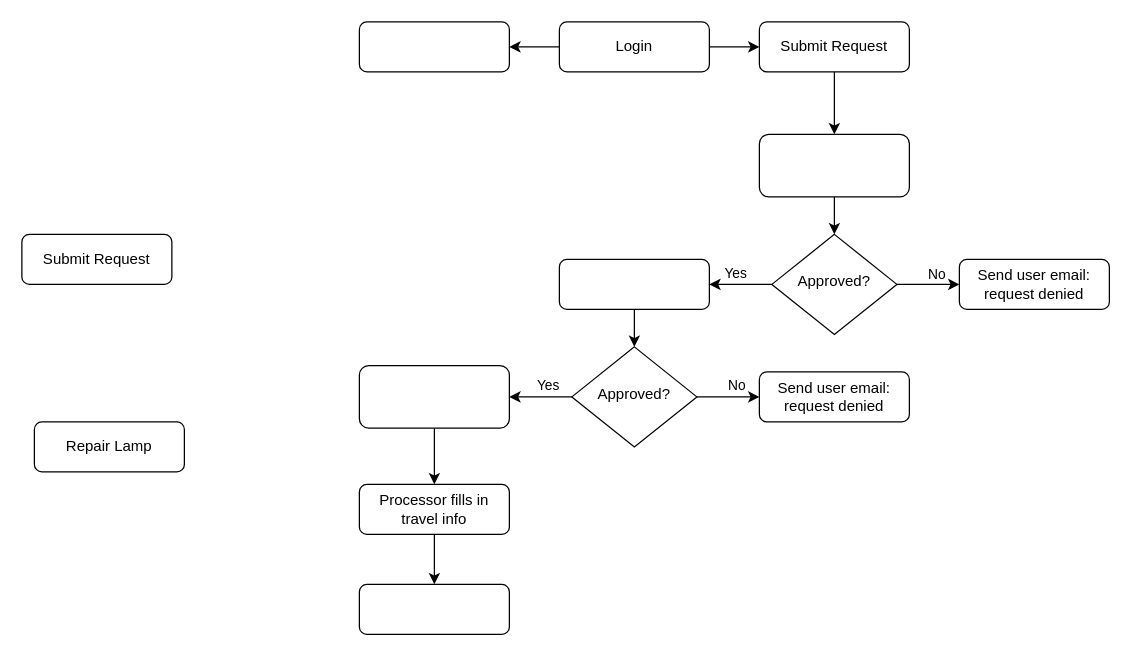
Image size: 1131x656. Some labels were removed from this diagram. Here are the shapes that lost their labels. From the top down, the box of each, then its label:
(358, 21, 509, 72): View Requests
(758, 133, 909, 197): E-Mail approval request immediate supervisor
(558, 258, 709, 309): Email approval request to CEO
(358, 364, 509, 428): Email Processor there is a new request to process
(358, 583, 509, 634): Email user travel info
